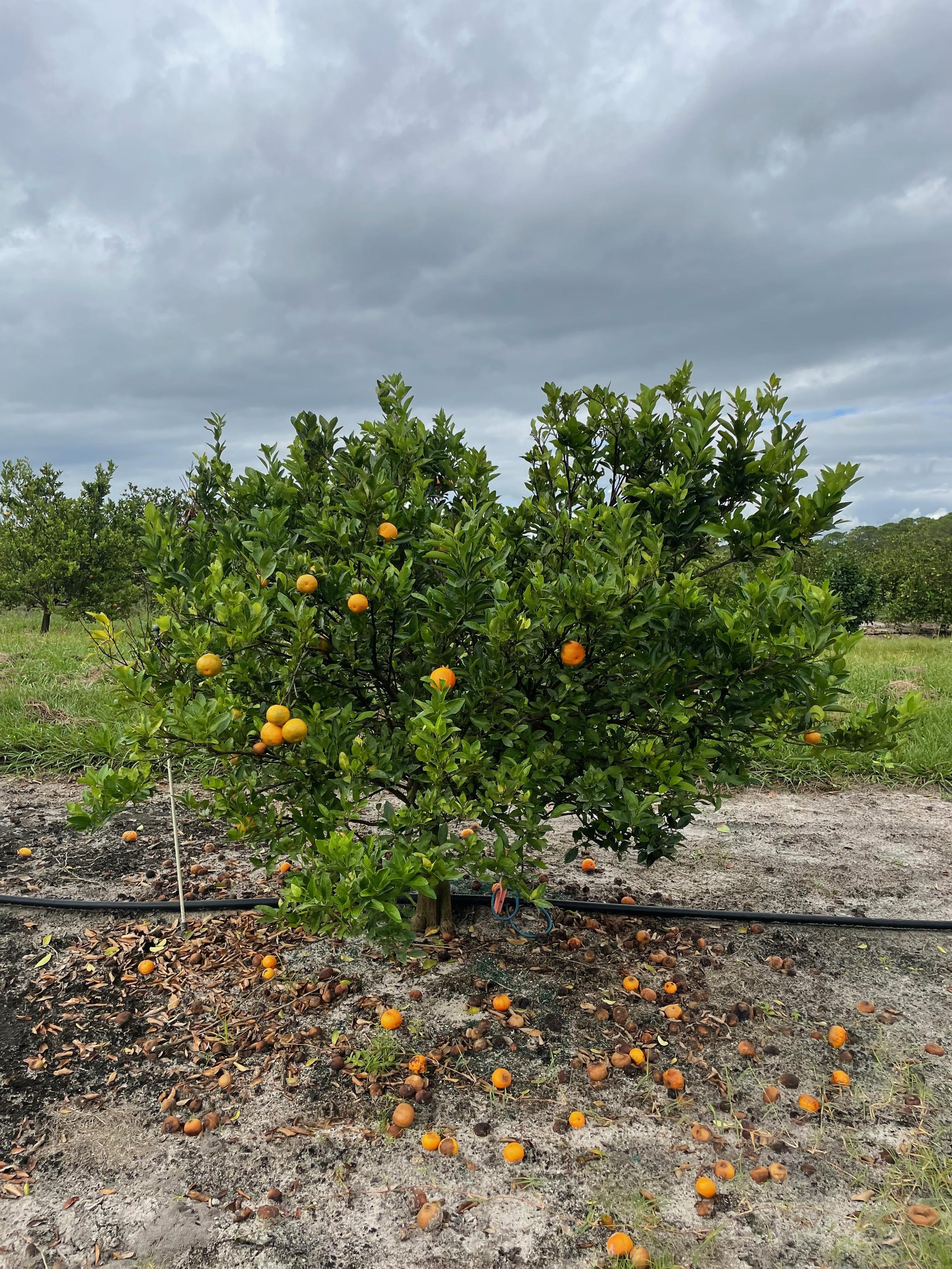fruit_on_ground: (427, 663, 459, 694), (557, 638, 588, 668), (194, 651, 225, 678), (280, 717, 309, 744), (259, 720, 285, 747), (265, 702, 291, 727), (311, 631, 338, 655), (345, 591, 370, 616), (374, 520, 400, 544), (294, 572, 320, 595), (432, 472, 456, 494), (801, 727, 825, 748), (304, 563, 327, 583), (237, 813, 259, 833), (250, 572, 270, 591), (226, 750, 245, 768), (251, 739, 270, 757)
fruit_on_tree: (415, 1201, 447, 1232), (905, 1201, 940, 1227), (605, 1231, 634, 1257), (390, 1101, 416, 1128), (662, 1067, 686, 1090), (490, 1067, 514, 1090), (379, 1007, 403, 1030), (502, 1140, 525, 1163), (695, 1175, 718, 1198), (629, 1244, 651, 1267), (826, 1024, 848, 1047), (797, 1092, 821, 1113), (420, 1129, 442, 1151), (439, 1136, 459, 1159), (402, 1073, 426, 1092), (182, 1115, 203, 1136), (768, 1162, 789, 1183), (586, 1061, 608, 1081), (407, 1052, 429, 1072), (691, 1121, 713, 1141), (714, 1159, 734, 1180), (491, 992, 512, 1012), (761, 1083, 781, 1103), (567, 1109, 587, 1129), (609, 1005, 630, 1024), (202, 1110, 221, 1131), (732, 1000, 753, 1019), (748, 1164, 769, 1183), (135, 956, 156, 975), (830, 1067, 851, 1086), (159, 1095, 178, 1115), (609, 1049, 629, 1068), (737, 1039, 757, 1058), (413, 1087, 434, 1105), (161, 1115, 182, 1133), (923, 1039, 944, 1056), (216, 1072, 235, 1090), (628, 1046, 646, 1065), (663, 1002, 683, 1019), (385, 1123, 406, 1139), (856, 998, 877, 1014), (316, 964, 336, 980), (328, 1053, 346, 1070), (622, 974, 640, 991), (579, 855, 597, 872), (617, 1040, 637, 1055), (261, 953, 278, 970), (565, 935, 583, 951), (186, 1097, 203, 1113), (635, 927, 651, 944), (640, 986, 657, 1002), (209, 1042, 227, 1057), (661, 979, 677, 995), (261, 967, 278, 982), (593, 1006, 610, 1021), (506, 1013, 523, 1028), (16, 844, 33, 859), (121, 828, 139, 842), (332, 981, 348, 996), (536, 869, 552, 884), (266, 1186, 282, 1201), (768, 955, 784, 970), (408, 987, 423, 1002), (662, 953, 677, 968), (189, 951, 205, 965), (649, 949, 665, 963), (809, 1027, 824, 1041), (781, 955, 795, 970), (202, 840, 218, 853), (459, 827, 475, 840), (640, 1030, 654, 1044), (695, 935, 709, 949), (307, 1024, 322, 1037), (440, 929, 455, 942), (188, 861, 203, 874), (278, 860, 293, 873), (620, 893, 636, 905), (583, 949, 597, 962), (749, 922, 765, 933), (469, 878, 481, 891), (161, 857, 174, 868), (196, 867, 209, 876)
